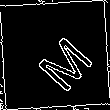M_NW: (21, 21, 89, 89)
